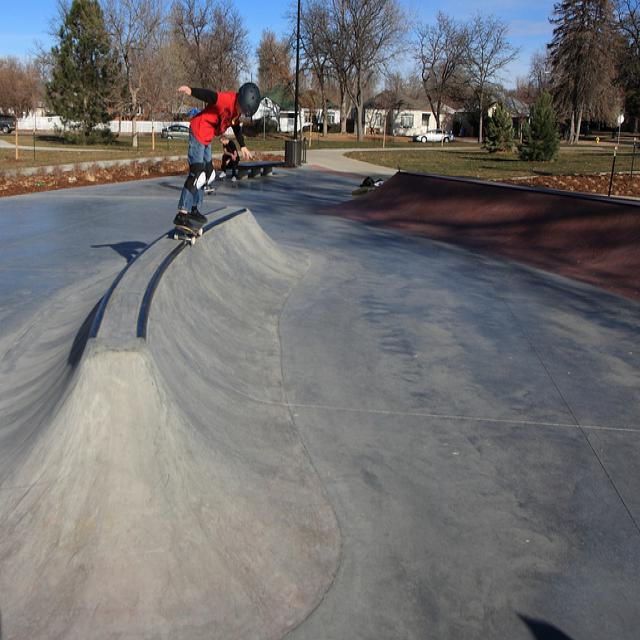Vehicle: (416, 125, 455, 144), (161, 125, 190, 140)
